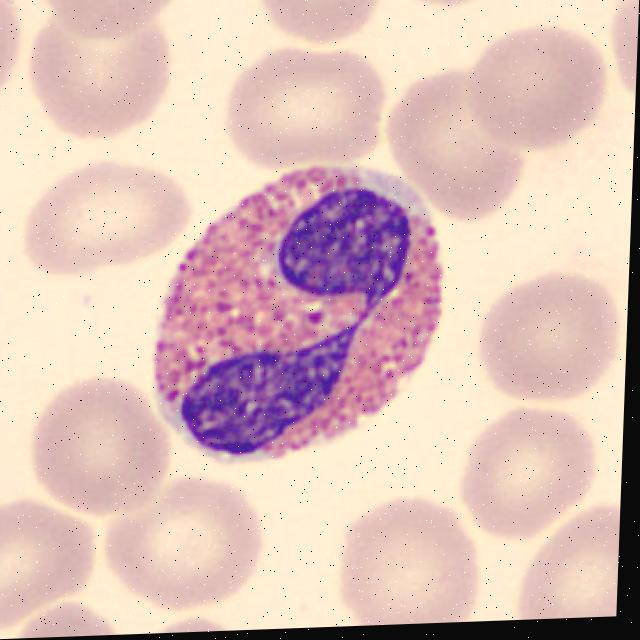eosinophil: (147, 165, 448, 472)
rbc: (378, 65, 537, 227), (207, 39, 391, 173), (472, 267, 629, 422), (97, 488, 273, 612), (450, 394, 592, 545), (26, 388, 175, 525), (16, 157, 185, 277), (337, 499, 486, 627), (456, 28, 610, 151), (39, 14, 173, 142), (510, 502, 621, 620), (0, 492, 97, 620), (45, 0, 184, 53), (241, 0, 379, 53), (601, 0, 640, 126), (0, 0, 30, 129), (18, 607, 127, 638), (385, 0, 503, 23), (141, 614, 245, 634)
